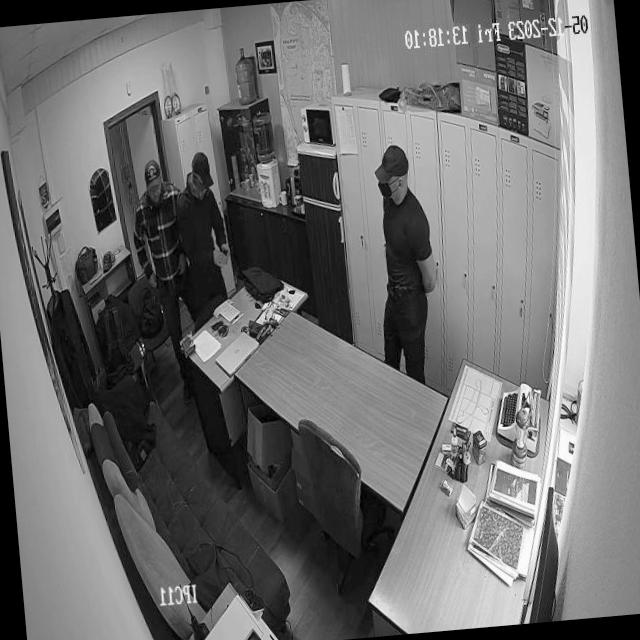person: (362, 139, 444, 361), (123, 155, 192, 334), (171, 148, 234, 308)
